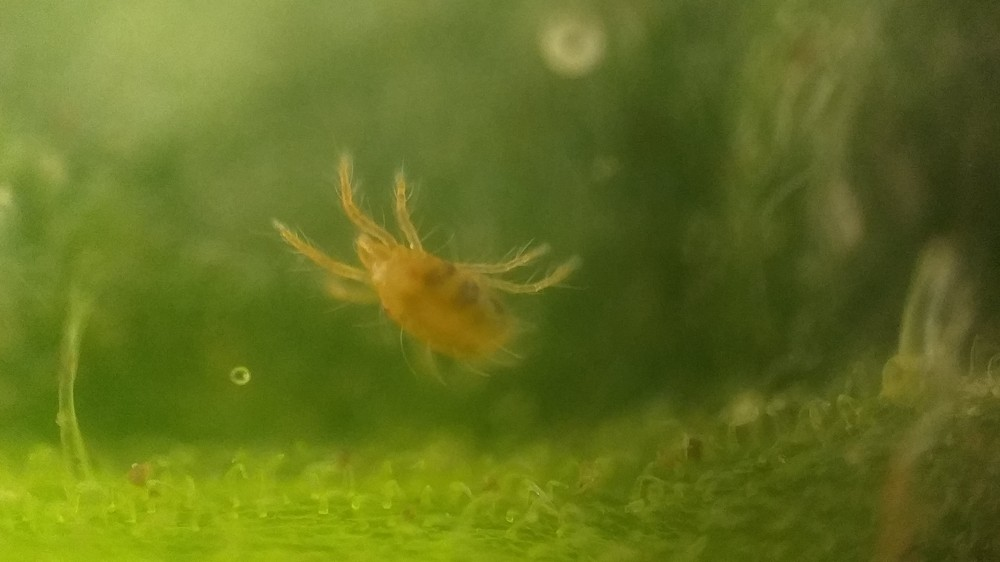Aracnido Rojo: (266, 143, 614, 411)
